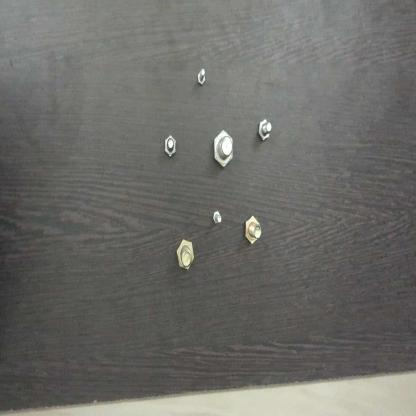Bolts: (211, 124, 235, 174), (242, 207, 264, 249), (175, 235, 196, 278), (256, 114, 273, 148), (163, 130, 180, 155), (209, 206, 226, 228), (196, 64, 209, 92)
